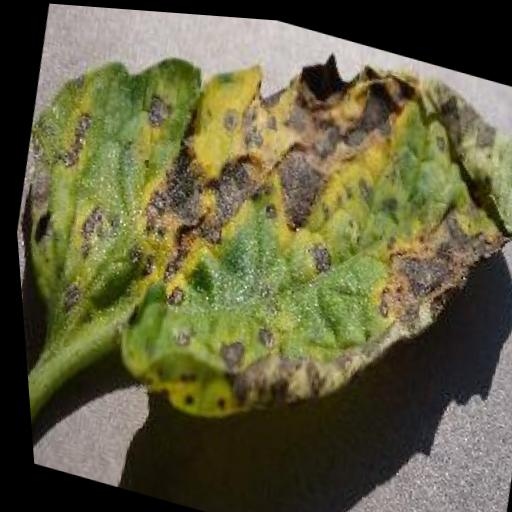Early Blight: (0, 0, 512, 497)
